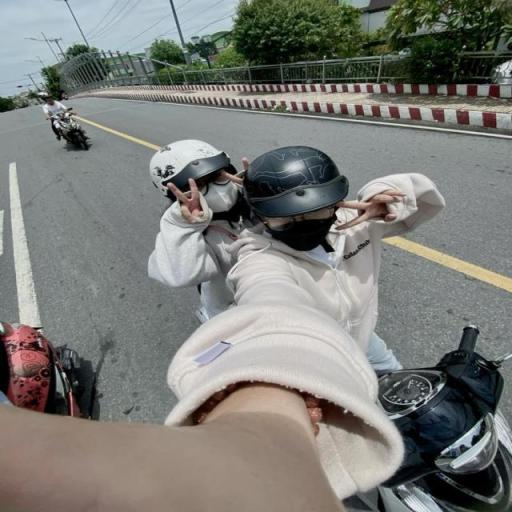with helmet: (242, 144, 349, 218), (148, 139, 232, 199), (31, 88, 48, 100)
